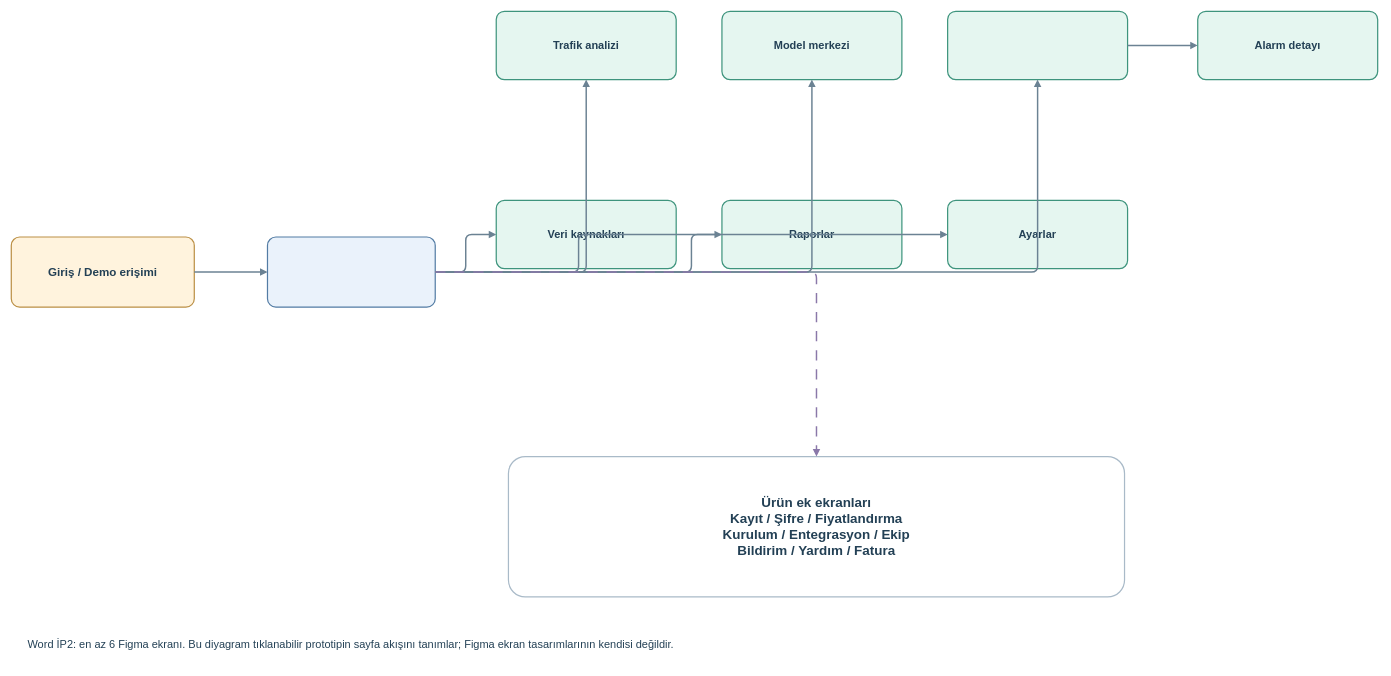
Some shapes in this 1391 by 676 pixel diagram are drawn without their labels. The shapes that lost their labels are listed below. From the top down, each one's centre as x and y in pixels, then its label:
At point 1037,45: "Alarm merkezi".
At point 351,271: "Genel bakış".
